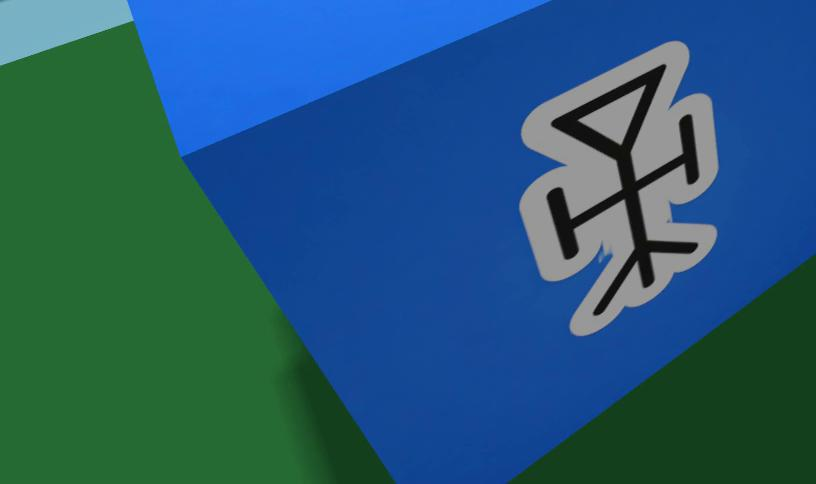KFS_REAL: (126, 0, 816, 483), (519, 41, 717, 334)
